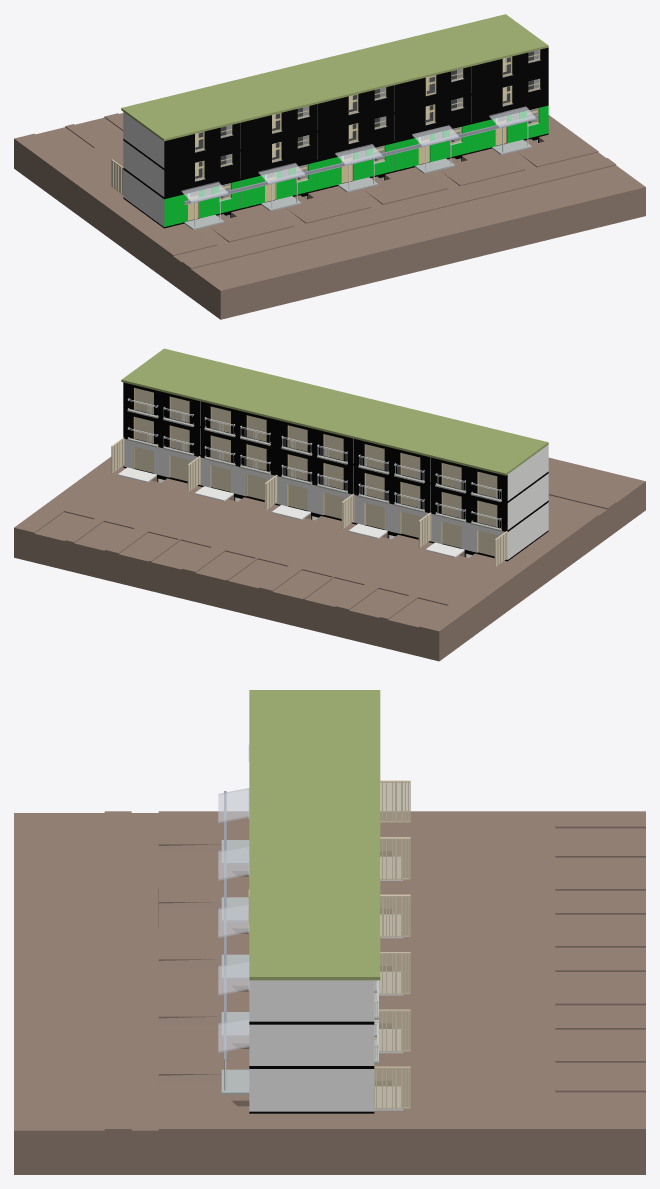
3 views of the same model, one above another, from view 1: azimuth 30°, elevation 25°; view 2: azimuth 150°, elevation 25°; view 3: azimuth 270°, elevation 25° (orthographic). The views are drawn at different scales.
Parts seen in each view (by area): view 1: 2BBYvWPmD8wez4fr2Me1fS, 0UYVGpRvL0lQFBg76WdftG, 3FuznPLwnFuvVKsHw1rLwM, 1xKUj$3In5$eFOxdJ0_vqN, 2KM3gMEm1FLu2DhMBxzCM0, 0awsP8KqvDbABRHmJrtVTb, 01Tx_uT6bFhhHpVYWRZbxf, 36wOf0Lw9FGhJnhKQ5$PZg, 3Fs7ljqSf8FfVAgueAvf$T, 1KYC24GZL8IvKF_V432Ize, 3V4YKT92DE3AXQZa4NoqEG, 0jbmoBaLP6QhZp$4UuERRb (+18 smaller); view 2: 2BBYvWPmD8wez4fr2Me1fS, 0UYVGpRvL0lQFBg76WdftG, 1xKUj$3In5$eFOxdJ0_vqN, 2KM3gMEm1FLu2DhMBxzCM0, 3FuznPLwnFuvVKsHw1rLwM, 0awsP8KqvDbABRHmJrtVTb, 3J2MQW3Kb2OuyPZcGnC4cX, 2MoSXKuZP9AuGJqOdfQSVW, 1Aq7gnIW91RAfJhXmpWRlv, 0kqm0N1Tf3ZwwqJEWcbbQT, 0IsuStbij8dvi3omVmIpqu, 1YItmeQ5DDVvaB1w8dw_7$ (+37 smaller); view 3: 2BBYvWPmD8wez4fr2Me1fS, 0awsP8KqvDbABRHmJrtVTb, 2KM3gMEm1FLu2DhMBxzCM0, 0UYVGpRvL0lQFBg76WdftG, 1xKUj$3In5$eFOxdJ0_vqN, 3FuznPLwnFuvVKsHw1rLwM, 1NmaEavo97juwtRPZbnb_a, 1K0g_DfljB4Rlvrvk20P8s, 1vSIpE2BrEaBqjKV2NjmkG, 23XxiPiIDDyeTQhMyCTzpF, 2_0LMTem94LBIoqtzWlL68, 204lrWDu59P92AmePyHUoL (+10 smaller).
Part boxes in pixels (x1,y1,x2,y2): 2BBYvWPmD8wez4fr2Me1fS: [14, 113, 645, 319]; 0UYVGpRvL0lQFBg76WdftG: [121, 89, 240, 141]; 3FuznPLwnFuvVKsHw1rLwM: [198, 70, 317, 122]; 1xKUj$3In5$eFOxdJ0_vqN: [275, 51, 394, 103]; 2KM3gMEm1FLu2DhMBxzCM0: [352, 33, 471, 84]; 0awsP8KqvDbABRHmJrtVTb: [429, 14, 548, 65]; 01Tx_uT6bFhhHpVYWRZbxf: [318, 85, 394, 130]; 36wOf0Lw9FGhJnhKQ5$PZg: [472, 47, 548, 93]; 3Fs7ljqSf8FfVAgueAvf$T: [164, 123, 240, 168]; 1KYC24GZL8IvKF_V432Ize: [241, 104, 317, 149]; 3V4YKT92DE3AXQZa4NoqEG: [241, 133, 317, 178]; 0jbmoBaLP6QhZp$4UuERRb: [472, 76, 548, 121]; 2BBYvWPmD8wez4fr2Me1fS: [14, 457, 645, 661]; 0UYVGpRvL0lQFBg76WdftG: [429, 423, 548, 475]; 1xKUj$3In5$eFOxdJ0_vqN: [275, 386, 394, 437]; 2KM3gMEm1FLu2DhMBxzCM0: [198, 367, 317, 419]; 3FuznPLwnFuvVKsHw1rLwM: [352, 405, 471, 456]; 0awsP8KqvDbABRHmJrtVTb: [121, 348, 240, 400]; 3J2MQW3Kb2OuyPZcGnC4cX: [431, 484, 507, 530]; 2MoSXKuZP9AuGJqOdfQSVW: [354, 466, 430, 511]; 1Aq7gnIW91RAfJhXmpWRlv: [277, 447, 353, 492]; 0kqm0N1Tf3ZwwqJEWcbbQT: [507, 502, 548, 559]; 0IsuStbij8dvi3omVmIpqu: [123, 409, 199, 455]; 1YItmeQ5DDVvaB1w8dw_7$: [200, 428, 276, 473]; 2BBYvWPmD8wez4fr2Me1fS: [14, 811, 645, 1174]; 0awsP8KqvDbABRHmJrtVTb: [249, 919, 380, 980]; 2KM3gMEm1FLu2DhMBxzCM0: [249, 862, 380, 919]; 0UYVGpRvL0lQFBg76WdftG: [249, 690, 380, 747]; 1xKUj$3In5$eFOxdJ0_vqN: [249, 805, 380, 862]; 3FuznPLwnFuvVKsHw1rLwM: [249, 747, 380, 804]; 1NmaEavo97juwtRPZbnb_a: [249, 1069, 374, 1111]; 1K0g_DfljB4Rlvrvk20P8s: [249, 980, 374, 1021]; 1vSIpE2BrEaBqjKV2NjmkG: [249, 1024, 374, 1065]; 23XxiPiIDDyeTQhMyCTzpF: [374, 1066, 410, 1108]; 2_0LMTem94LBIoqtzWlL68: [374, 1009, 410, 1051]; 204lrWDu59P92AmePyHUoL: [379, 952, 410, 994].
Size of the model in its own units: 41.5 by 11.12 by 34.91.
